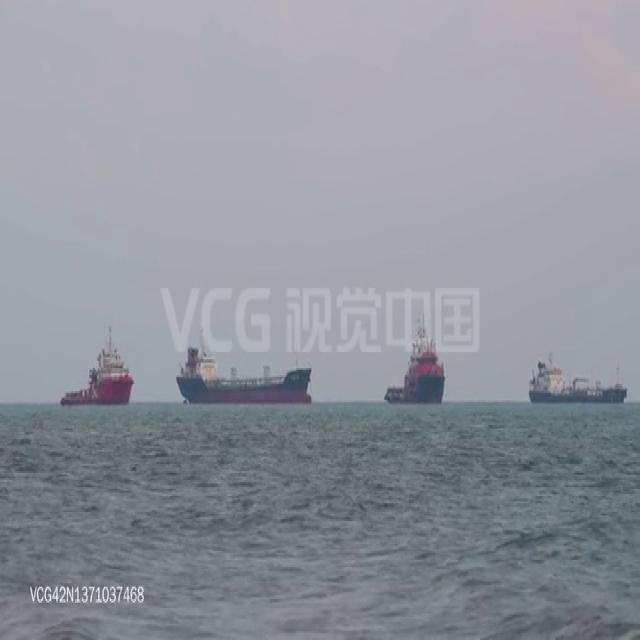cargoship: (175, 329, 312, 401), (53, 323, 132, 403), (528, 349, 628, 402), (383, 322, 446, 403)
